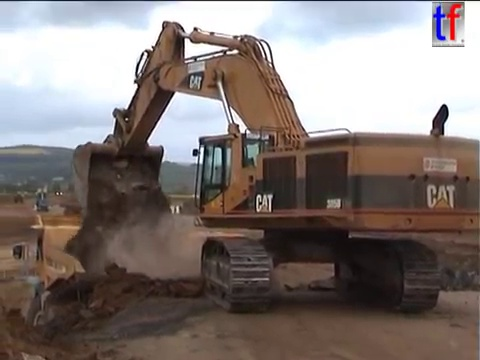excavator: (69, 17, 480, 314)
truck: (10, 212, 208, 348), (146, 227, 250, 281), (58, 197, 100, 217), (174, 196, 211, 217), (12, 191, 24, 204)
